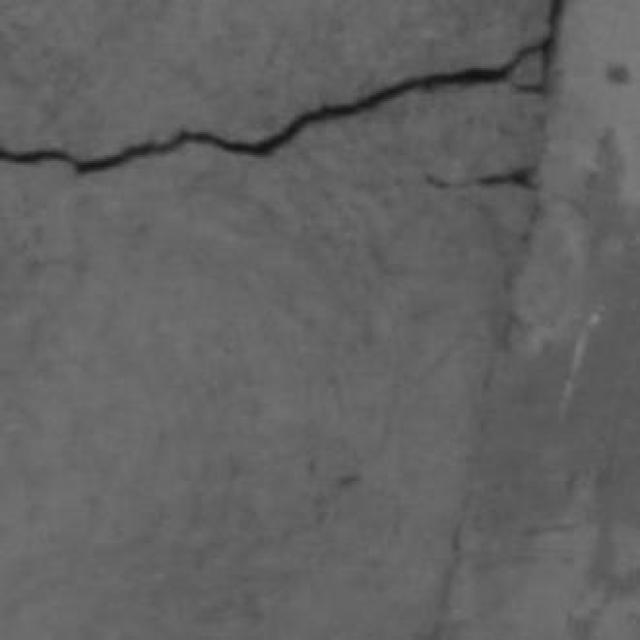crack: (0, 35, 548, 174), (425, 464, 475, 639), (425, 167, 537, 190), (544, 0, 570, 95)
